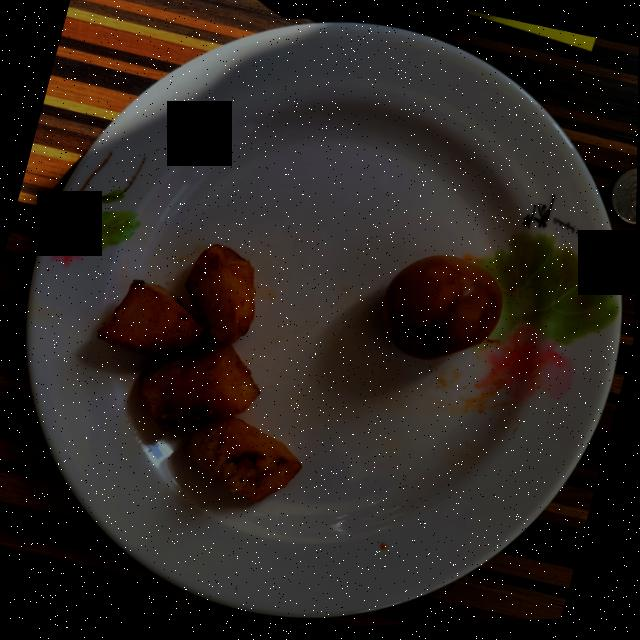coin: (611, 173, 638, 230)
fried potato: (98, 246, 302, 503)
soy egg: (383, 258, 503, 363)
